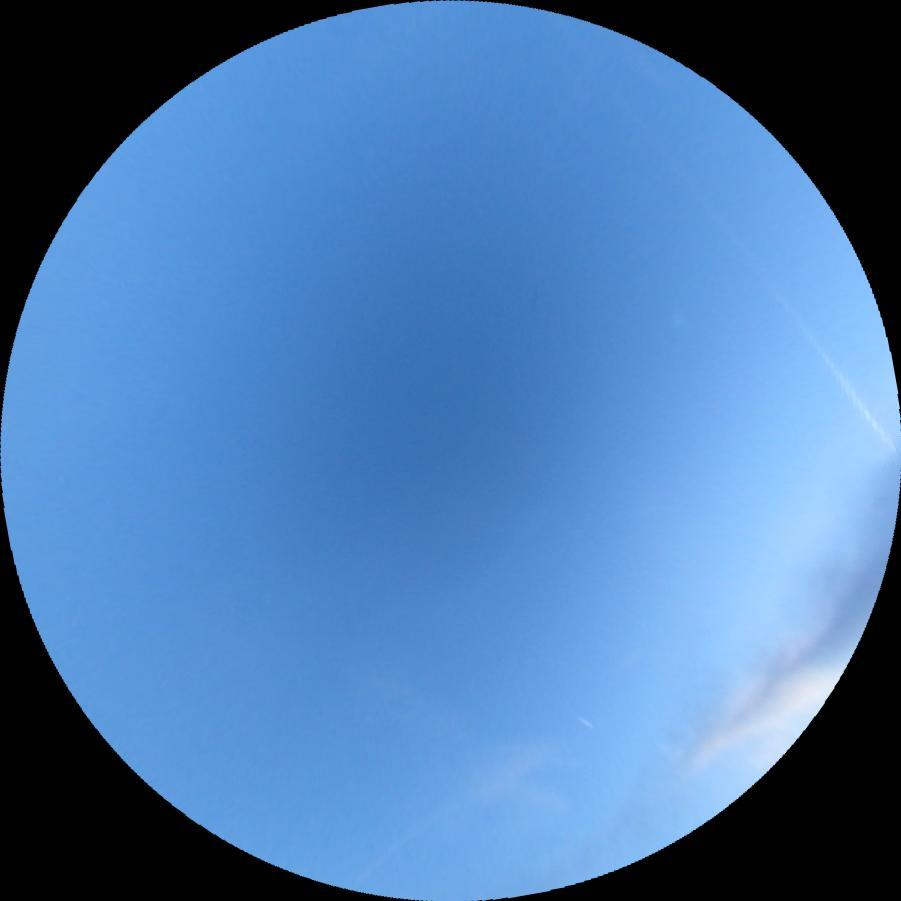contrail old: (688, 183, 901, 453)
unknow: (577, 715, 594, 730)
